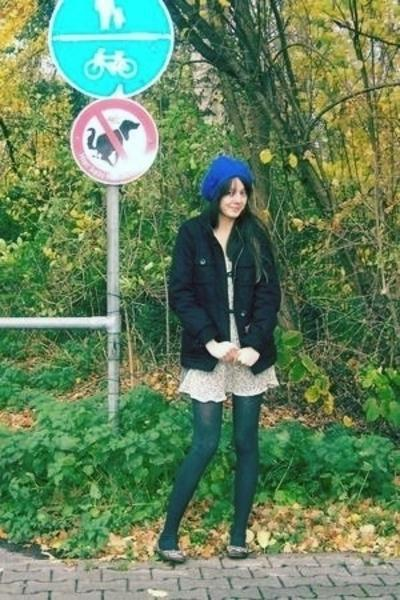hat: (200, 155, 251, 196)
jacket: (156, 204, 283, 375)
shirt: (206, 325, 259, 365)
shoe: (154, 536, 258, 568)
skirt: (180, 353, 278, 401)
